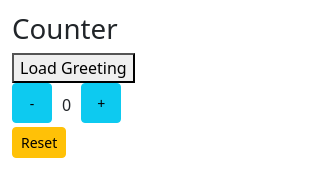
Test case: Counter Component › should decrease counter by 1
This screenshot has width=332, height=175.
Click the button "-" at (32, 103), box [12,83,52,123]
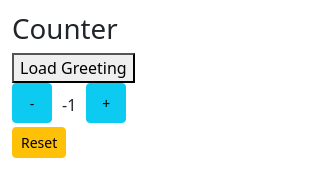
expect the text titled "counter" reads "-1": met, box [62,94,76,116]
